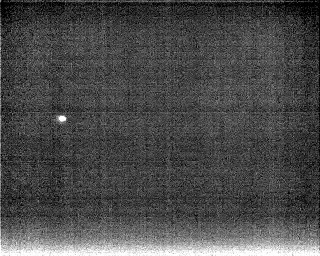AIRPLANE: (57, 113, 68, 125)
